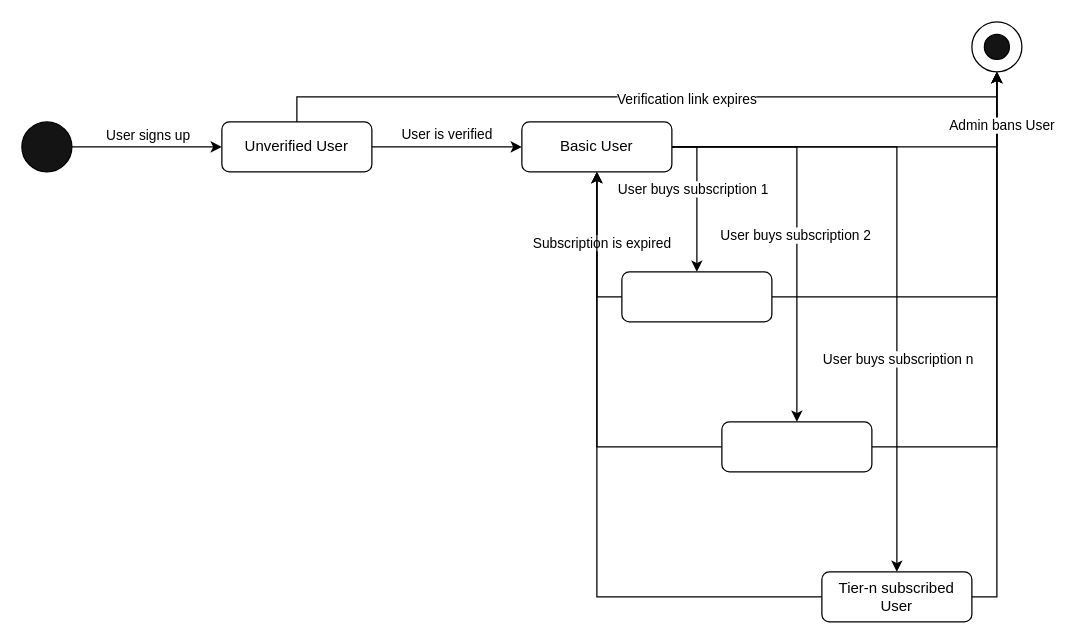
Some shapes in this 1075 by 644 pixel diagram are drawn without their labels. Each missing label, with the centre of its shape:
"Tier-1 subscribed User" belongs at pixel 696 296.
"Tier-2 subscribed User" belongs at pixel 796 446.
